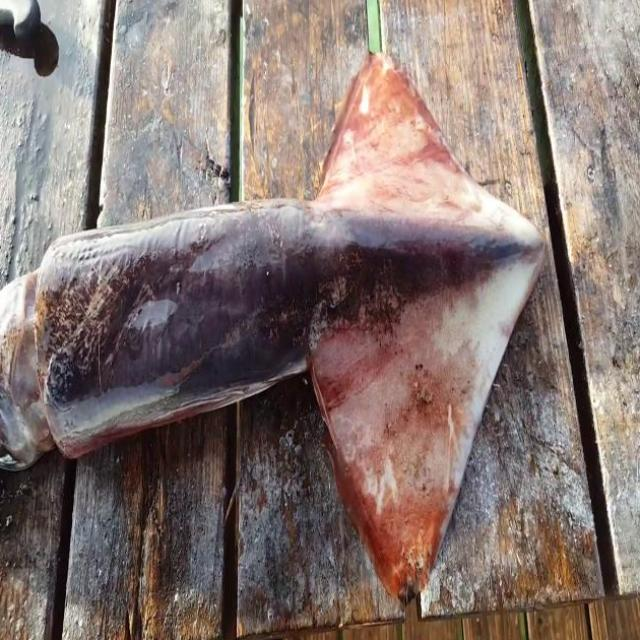SQUID: (6, 18, 553, 617)
